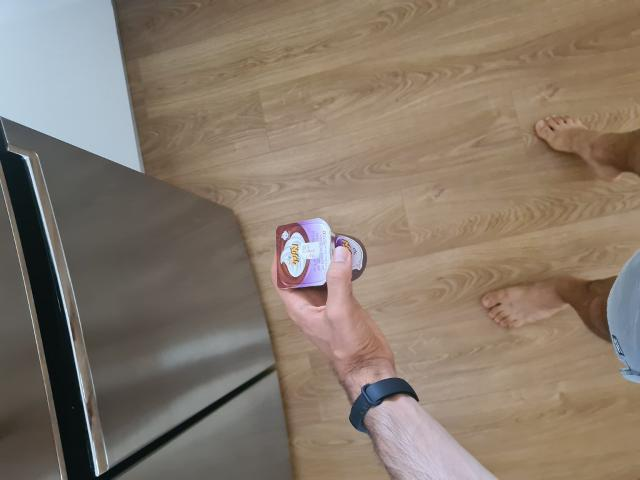milky: (274, 219, 368, 293)
